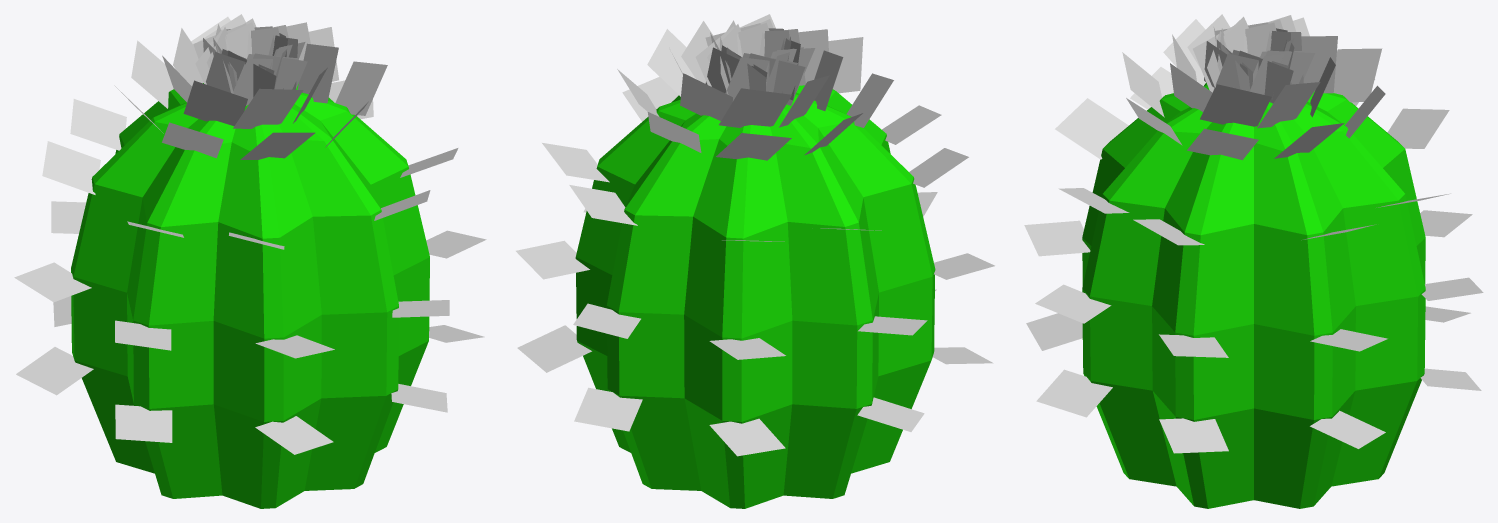
File: Cactus_2.fbx
The picture shows the model from 3 angles, left to right: view 1: azimuth 30°, elevation 25°; view 2: azimuth 150°, elevation 25°; view 3: azimuth 270°, elevation 25°; orthographic projection.
Parts seen in each view (by area): view 1: Cactus_2.002; view 2: Cactus_2.002; view 3: Cactus_2.002.
Part boxes in pixels (box(x1,y1,x2,y2)): Cactus_2.002: box(14, 14, 486, 508); Cactus_2.002: box(516, 14, 994, 508); Cactus_2.002: box(1024, 14, 1483, 508).
Bounding box in the file's own units: 37.2 × 37.32 × 37.2.
